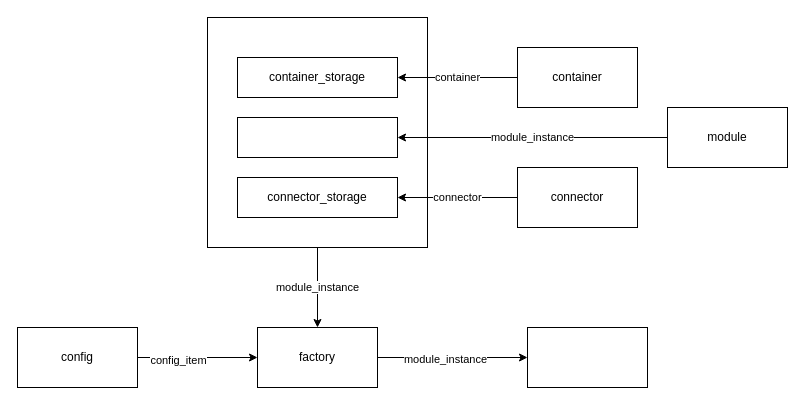
Image size: 805x405. Some labels were removed from this diagram. Each missing label, with the box of its shape:
assembler: (526, 326, 648, 388)
main_storage: (206, 16, 428, 248)
module_instance_storage: (236, 116, 398, 158)
